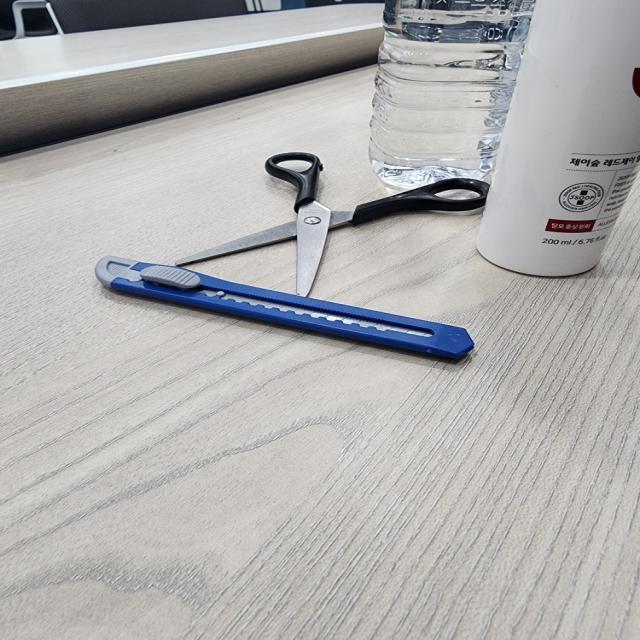cutter: (91, 248, 483, 368)
scissors: (145, 145, 494, 308)
spray: (473, 0, 640, 286)
water: (374, 0, 539, 191)
